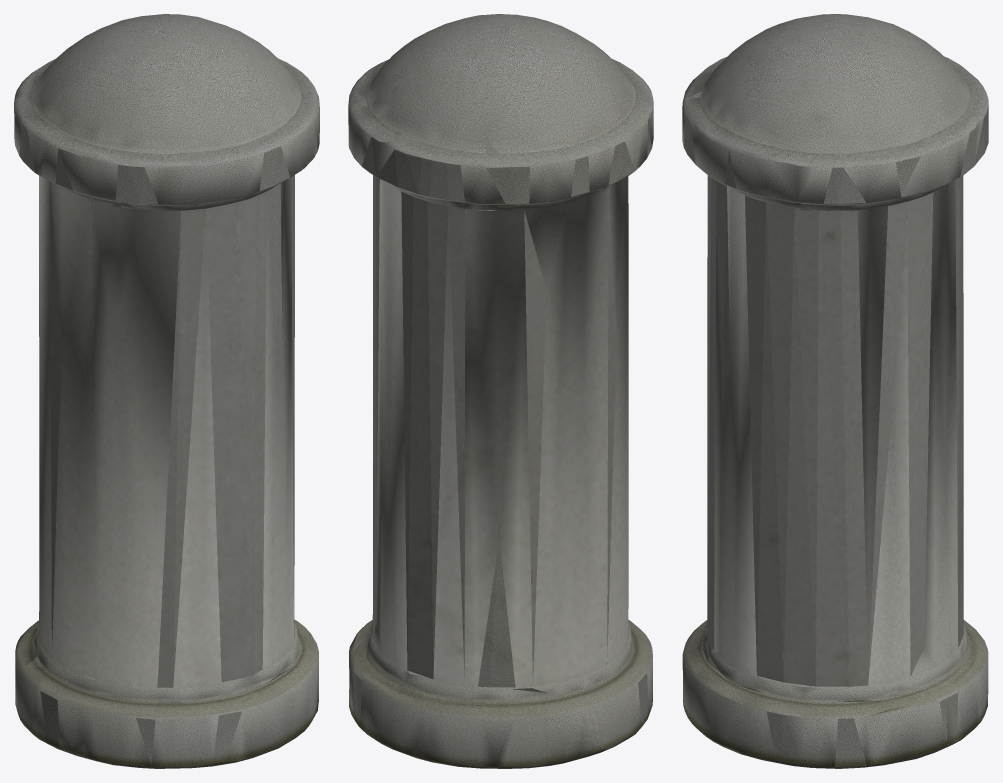
The model's file is frade-de-concreto-v2__01a1b613.glb.
3 renders of one model, left to right at view 1: azimuth 30°, elevation 25°; view 2: azimuth 150°, elevation 25°; view 3: azimuth 270°, elevation 25°, orthographic.
Parts seen in each view (by area): view 1: frade-de-concreto-v2__01a1b613; view 2: frade-de-concreto-v2__01a1b613; view 3: frade-de-concreto-v2__01a1b613.
Boxes of the visible parts, bbox=[...] form: frade-de-concreto-v2__01a1b613: bbox=[14, 14, 319, 768]; frade-de-concreto-v2__01a1b613: bbox=[348, 14, 653, 768]; frade-de-concreto-v2__01a1b613: bbox=[682, 14, 988, 768].
Bounding box in the file's own units: 0.2869 × 0.7 × 0.2866.
Materials: 1 (1 with a texture image).
